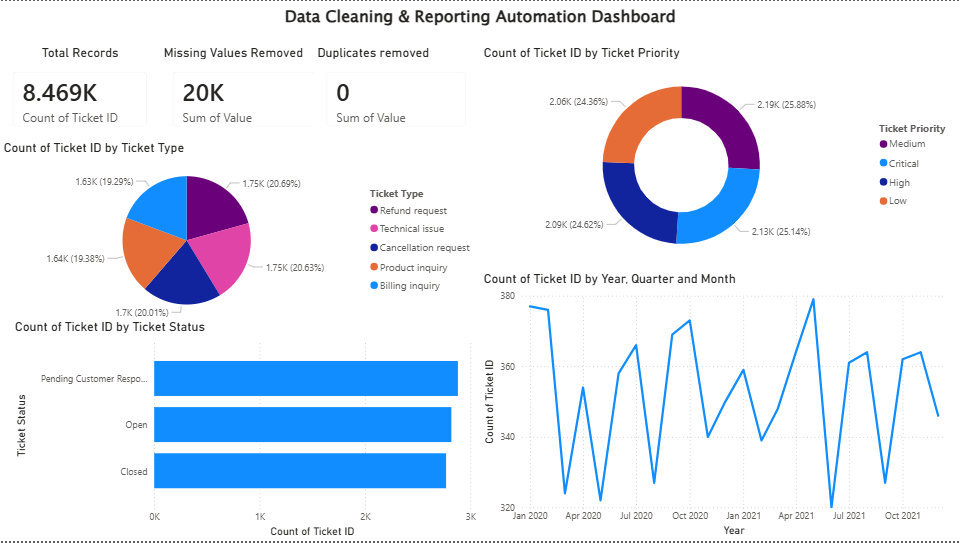

What the dashboard file says about the page in this screenshot:
{"tool":"powerbi","page":{"name":"Page 1","canvas":[1280,720],"ordinal":0},"visuals":[{"type":"cardVisual","title":"Total Records","fields":{"Data":["CountNonNull(cleaned_data.Ticket ID)"]},"box":[0,58.5,213.9,126.9],"z":0},{"type":"cardVisual","title":"Missing Values Removed","fields":{"Data":["Sum(cleaning_summary.Value)"]},"box":[213.9,58.5,248.1,126.9],"z":1},{"type":"cardVisual","title":"Duplicates removed","fields":{"Data":["Sum(cleaning_summary.Value)"]},"box":[419.2,58.5,221,126.9],"z":2},{"type":"pieChart","fields":{"Category":["cleaned_data.Ticket Type"],"Y":["CountNonNull(cleaned_data.Ticket ID)"]},"box":[0,185.3,640.1,249.5],"z":3},{"type":"clusteredBarChart","fields":{"Category":["cleaned_data.Ticket Status"],"Y":["CountNonNull(cleaned_data.Ticket ID)"]},"box":[15.7,423.4,624.5,296.5],"z":4},{"type":"donutChart","fields":{"Category":["cleaned_data.Ticket Priority"],"Y":["CountNonNull(cleaned_data.Ticket ID)"]},"box":[640.1,58.5,640.1,302.3],"z":5},{"type":"lineChart","fields":{"Y":["CountNonNull(cleaned_data.Ticket ID)"],"Category":["cleaned_data.Date of Purchase.Variation.Date Hierarchy.Year","cleaned_data.Date of Purchase.Variation.Date Hierarchy.Quarter","cleaned_data.Date of Purchase.Variation.Date Hierarchy.Month"]},"box":[640.1,360.7,640.1,359.3],"z":6},{"type":"textbox","box":[258.1,0,764.2,58.5],"z":7}]}

Visuals, with their boxes in screenshot pixels (x1, y1, x2, y2), scaled from the page's 1280x720 canvas onto the 960x543 screenshot:
"Total Records" cardVisual: bbox=[0, 44, 160, 140]
"Missing Values Removed" cardVisual: bbox=[160, 44, 346, 140]
"Duplicates removed" cardVisual: bbox=[314, 44, 480, 140]
pieChart - cleaned_data.Ticket Type x CountNonNull(cleaned_data.Ticket ID): bbox=[0, 140, 480, 328]
clusteredBarChart - cleaned_data.Ticket Status x CountNonNull(cleaned_data.Ticket ID): bbox=[12, 319, 480, 542]
donutChart - cleaned_data.Ticket Priority x CountNonNull(cleaned_data.Ticket ID): bbox=[480, 44, 959, 272]
lineChart - CountNonNull(cleaned_data.Ticket ID) x cleaned_data.Date of Purchase.Variation.Date Hierarchy.Year: bbox=[480, 272, 959, 542]
textbox: bbox=[194, 0, 767, 44]
